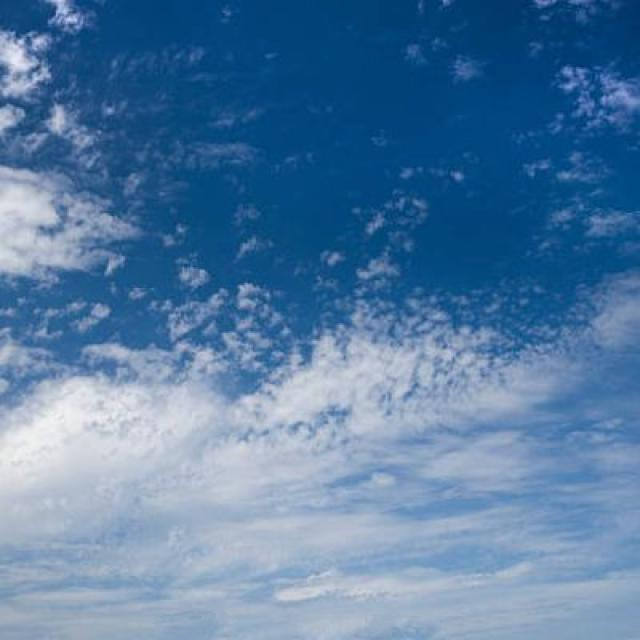Ci: (1, 52, 640, 572)
